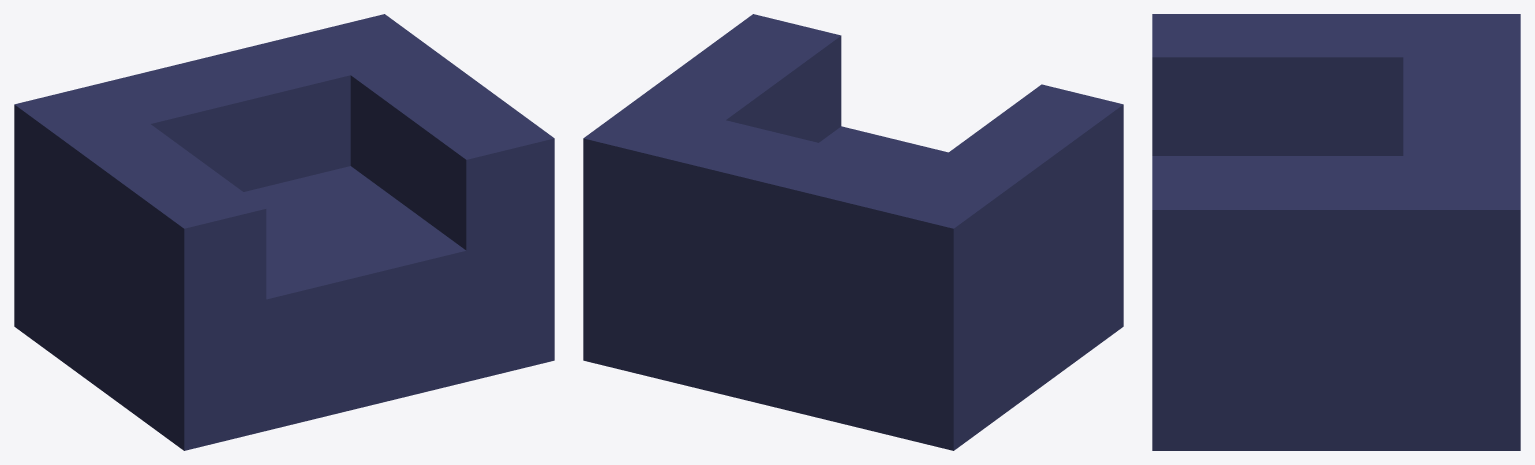
The model's file is ArmChair.fbx.
The picture shows the model from 3 angles, left to right: view 1: azimuth 30°, elevation 25°; view 2: azimuth 150°, elevation 25°; view 3: azimuth 270°, elevation 25°; orthographic projection. The views are drawn at different scales.
Parts seen in each view (by area): view 1: Armchair; view 2: Armchair; view 3: Armchair.
Boxes of the visible parts, left/top/right/bottom form: Armchair: left=14, top=14, right=554, bottom=450; Armchair: left=583, top=14, right=1123, bottom=450; Armchair: left=1152, top=14, right=1520, bottom=450.
Bounding box in the file's own units: 327 × 187 × 260.
